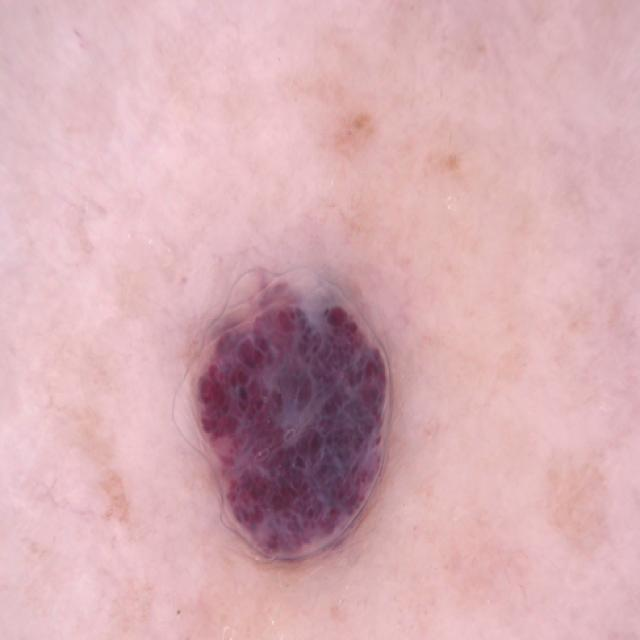Vascular Lesions: (173, 258, 428, 584)
